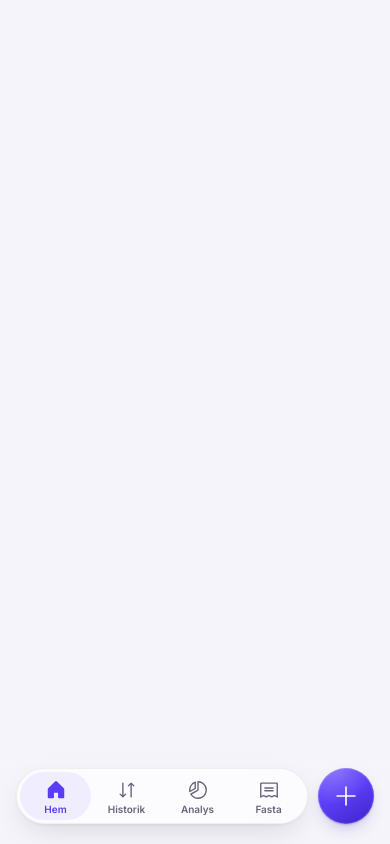
Test: lägga till ett köp › med taligenkänning: plus → "Lägg till köp"-arket → Fyll i manuellt → tomt formulär
Click the button named "Lägg till köp".
click(346, 796)  # box [318,768,374,824]
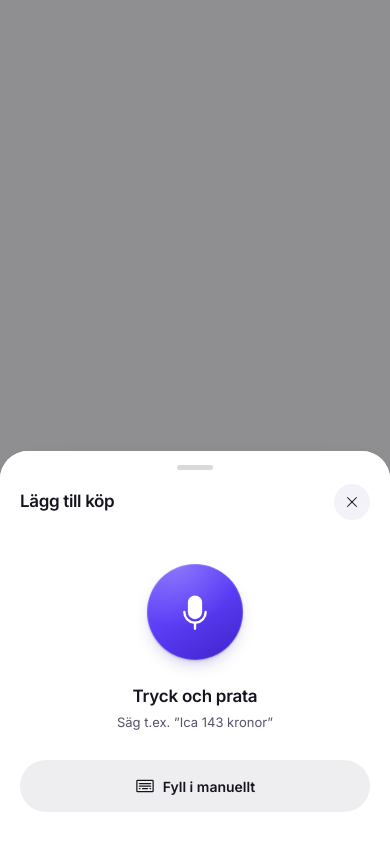
Result: the text "Tryck och prata" is shown at [133,684,257,709]
Click the button "Fyll i manuellt".
click(195, 786)  # box [20,760,370,812]
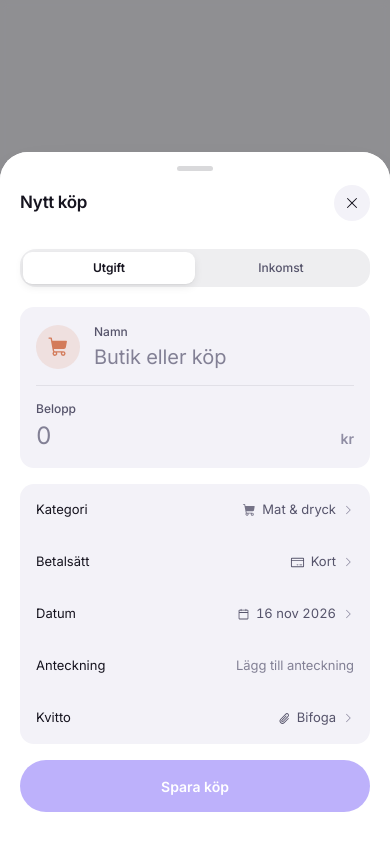
Result: the heading "Nytt köp" is shown at [20,191,87,215]
Result: the field with placeholder "Butik eller köp" is empty at [94,343,354,371]
